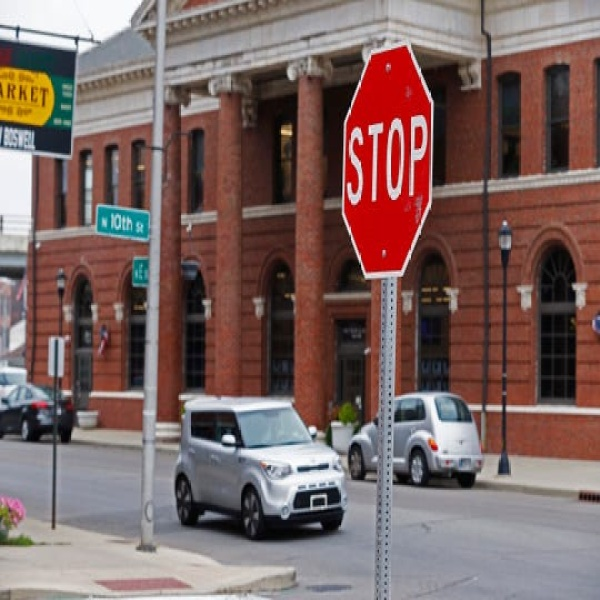stop: (339, 41, 438, 276)
